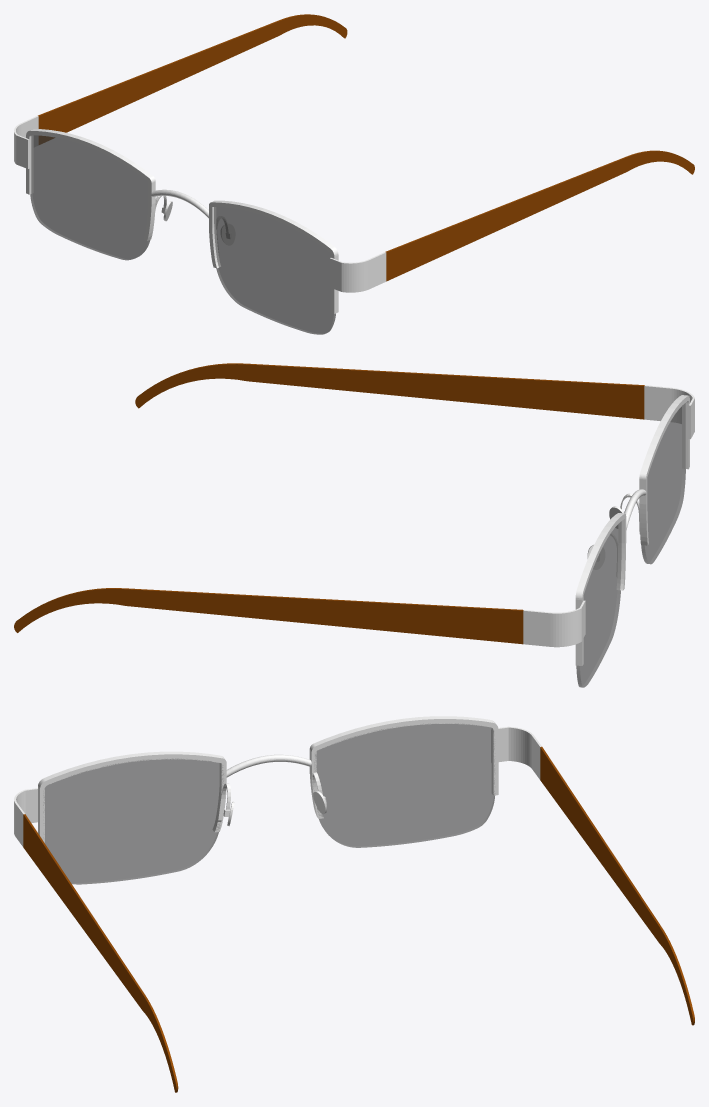
File: brille.dae
3 renders of one model, top to bottom at view 1: azimuth 30°, elevation 25°; view 2: azimuth 150°, elevation 25°; view 3: azimuth 270°, elevation 25°, orthographic. The views are drawn at different scales.
Visible parts, largest first — view 1: skpB7B1_00; view 2: skpB7B1_00; view 3: skpB7B1_00.
Part boxes in pixels (box(x1,y1,x2,y2)): skpB7B1_00: box(14, 14, 694, 334); skpB7B1_00: box(14, 363, 694, 687); skpB7B1_00: box(14, 716, 694, 1092).
Size of the model in its own units: 44.43 by 8.55 by 43.08.
